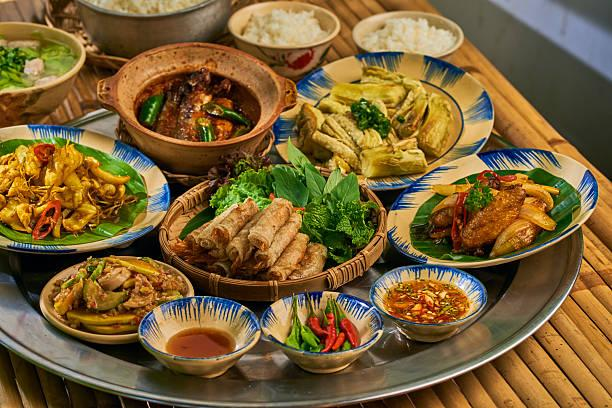Braised Crucian Carp: (277, 51, 485, 192), (155, 167, 373, 301), (96, 42, 294, 176), (386, 147, 597, 267), (1, 124, 168, 251), (40, 257, 193, 345)
